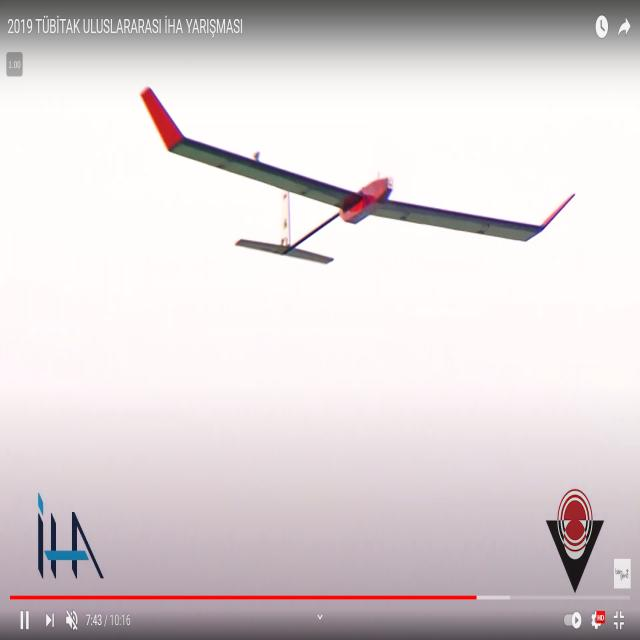iha: (138, 84, 575, 267)
